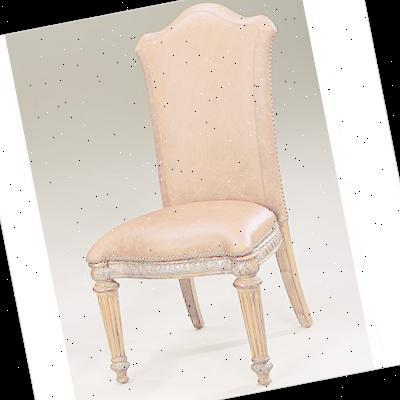Silla: (44, 0, 342, 399)
